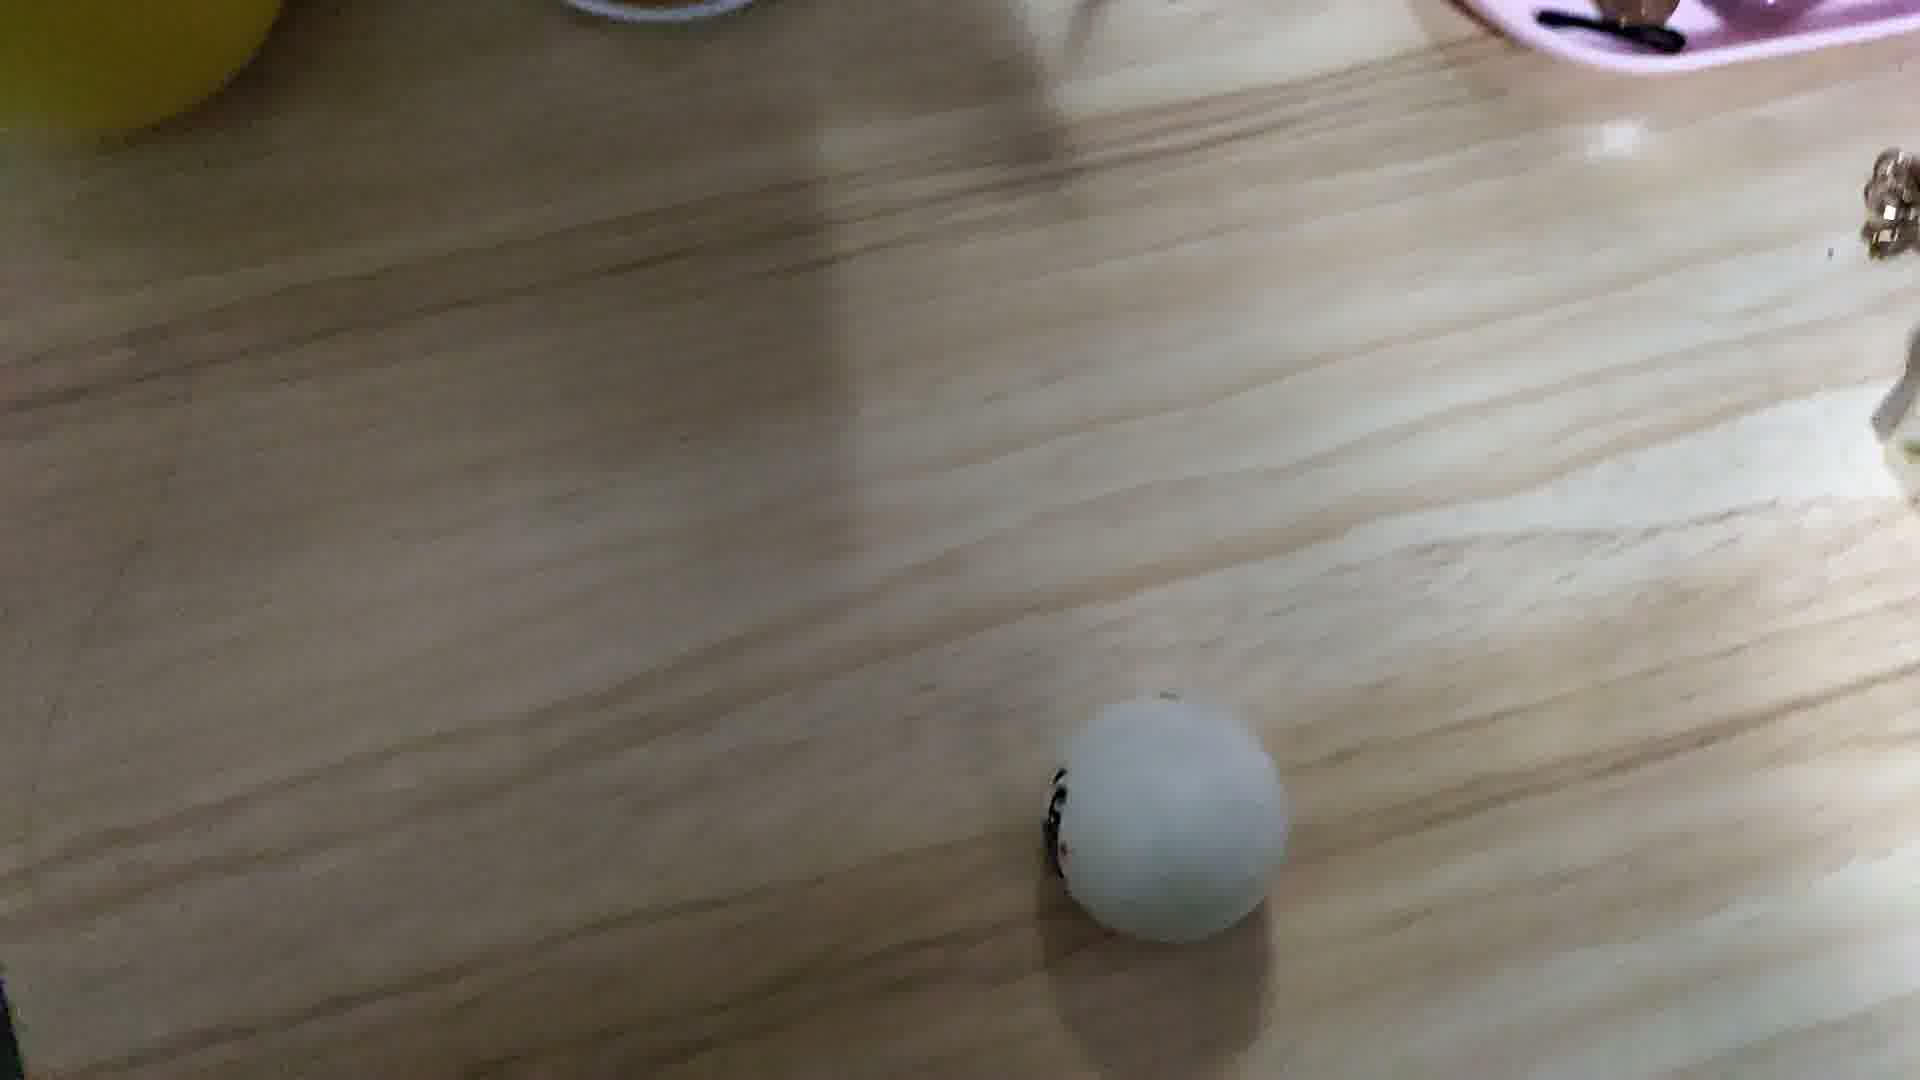Ball: (1043, 695, 1294, 948)
